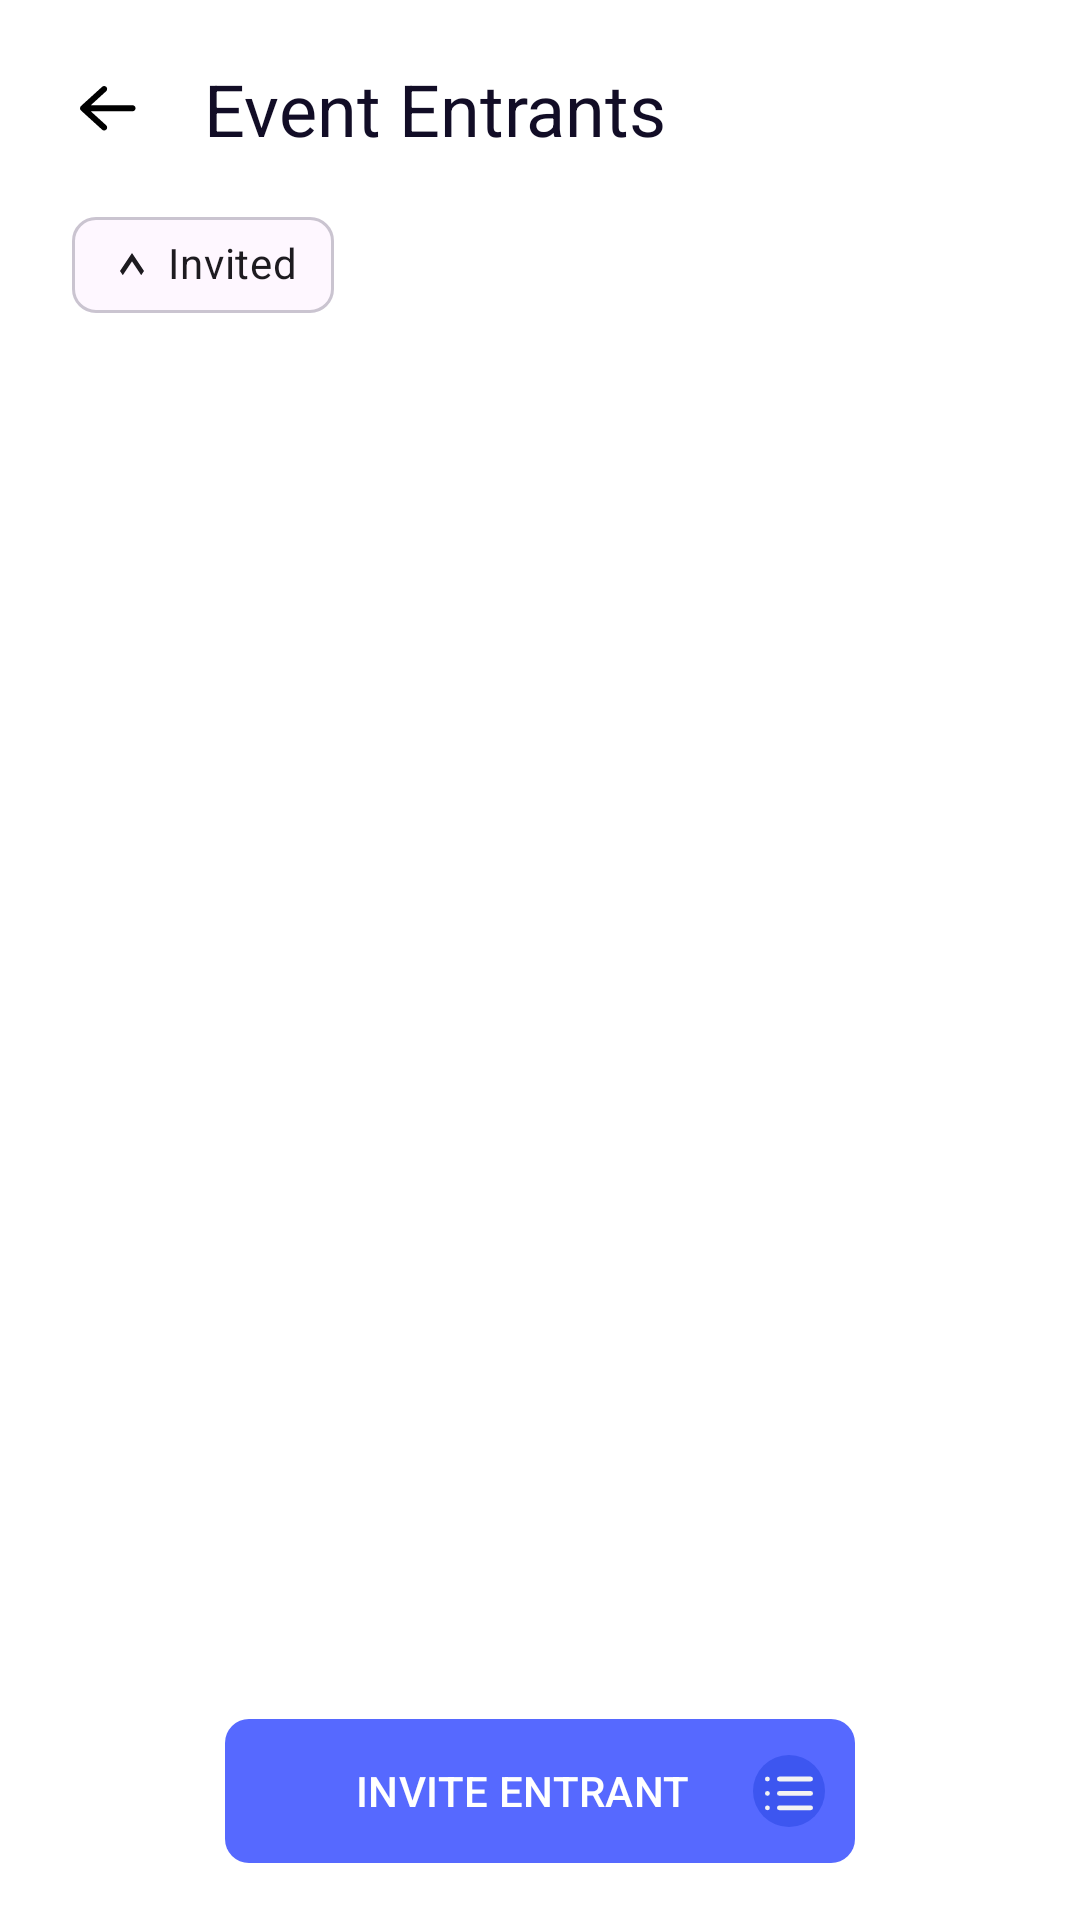

Point at icon controls on the screen. Image size 1080x1920, points as (x,y).
back: (108,108)
